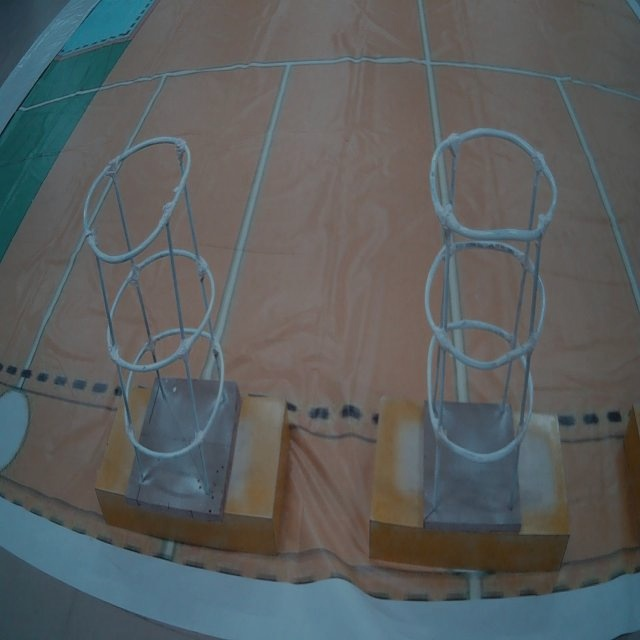silo: (75, 124, 249, 534), (405, 119, 566, 550)
